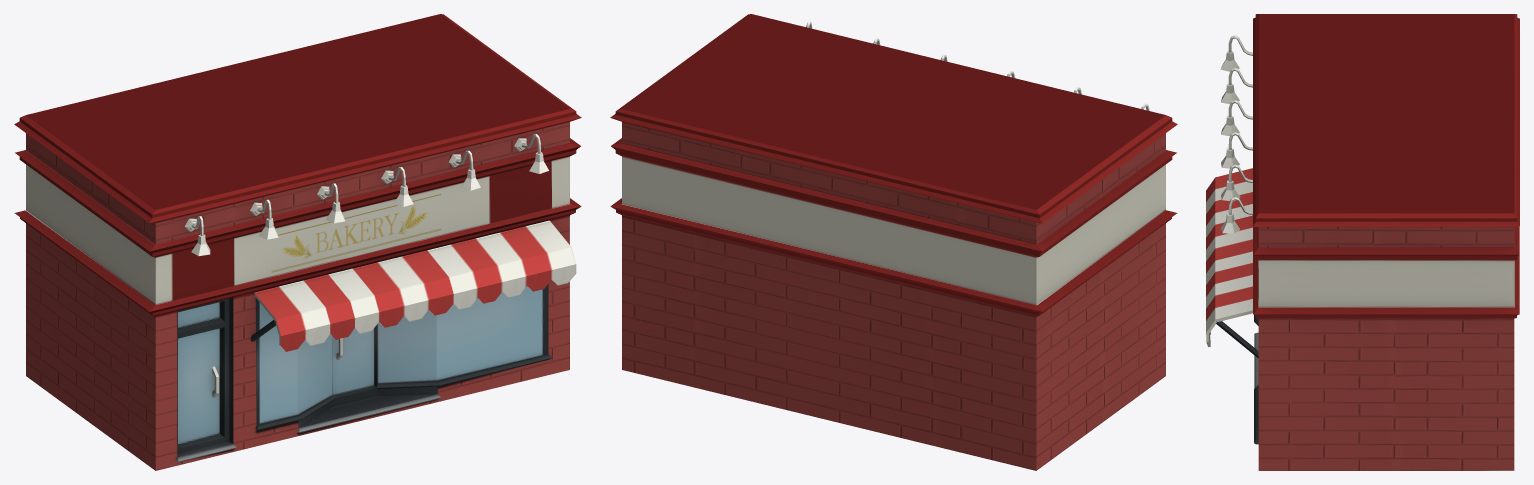
Rendered from 3038add6-147d-46b7-bc0f-6539eab48be9.glb.
3 views of the same model, side by side, from view 1: azimuth 30°, elevation 25°; view 2: azimuth 150°, elevation 25°; view 3: azimuth 270°, elevation 25° (orthographic).
Visible parts, largest first — view 1: Bakery_mesh; view 2: Bakery_mesh; view 3: Bakery_mesh.
Boxes of the visible parts, bbox=[...] form: Bakery_mesh: bbox=[14, 14, 581, 470]; Bakery_mesh: bbox=[610, 14, 1177, 470]; Bakery_mesh: bbox=[1206, 14, 1519, 470].
Bounding box in the file's own units: 19.26 × 11.1 × 12.26.
1 material, 1 textured.
